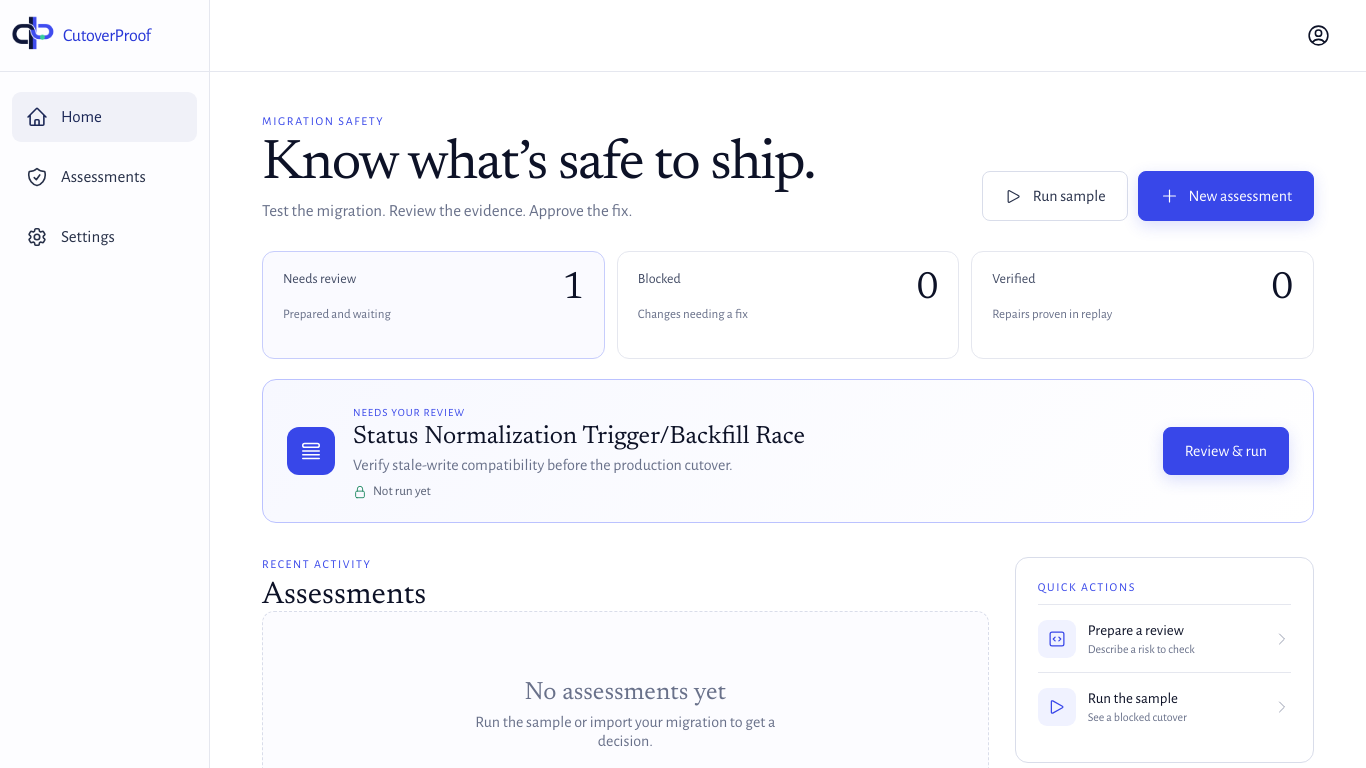
Test case: CutoverProof customer workspace › turns an agent-created draft into a visible human handoff
The image size is (1366, 768).
Expected: the heading "Know what’s safe to ship." is shown, top-left (262, 137), bottom-right (815, 193)
Expected: the text "Needs your review" is shown, top-left (353, 407), bottom-right (465, 418)
Click the button "Review & run" at [1226, 451], box top-left (1163, 427), bottom-right (1289, 475)
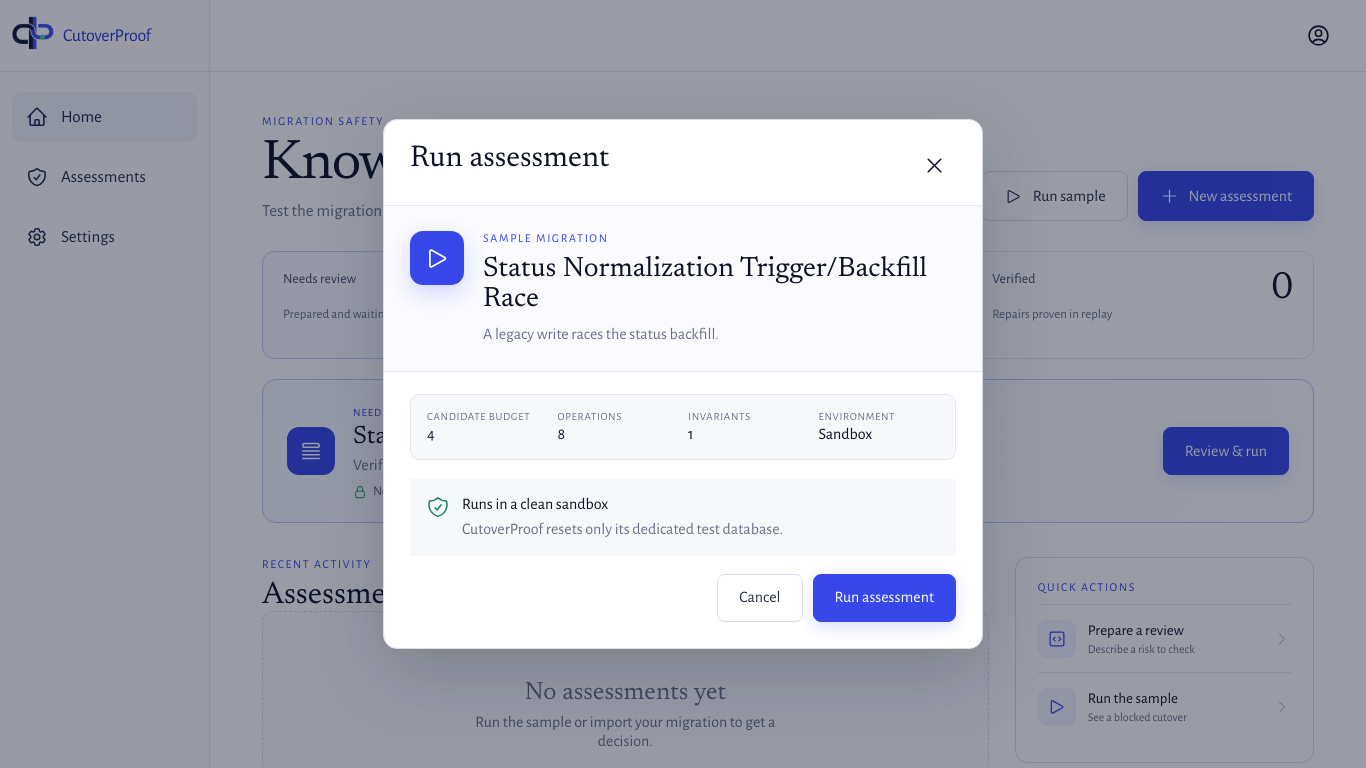
Expected: the dialog "Run assessment" is shown, top-left (383, 119), bottom-right (983, 649)
